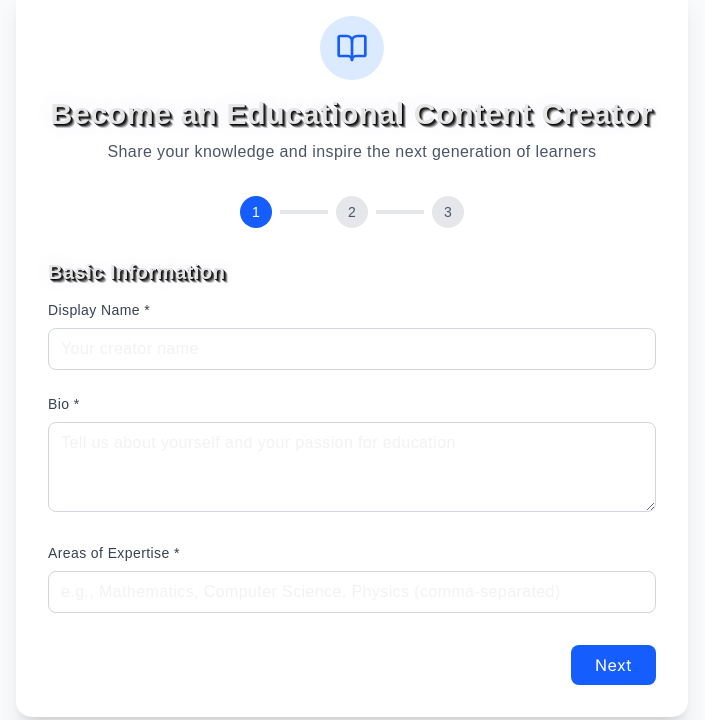
Test: CreatorApply Component › Form Navigation › navigates back to previous step when Previous is clicked
The width and height of the screenshot is (705, 720).
Go to step 2
Type "Test Creator" into the field with placeholder "Your creator name" at coordinates (352, 349), box [48,328,656,370]
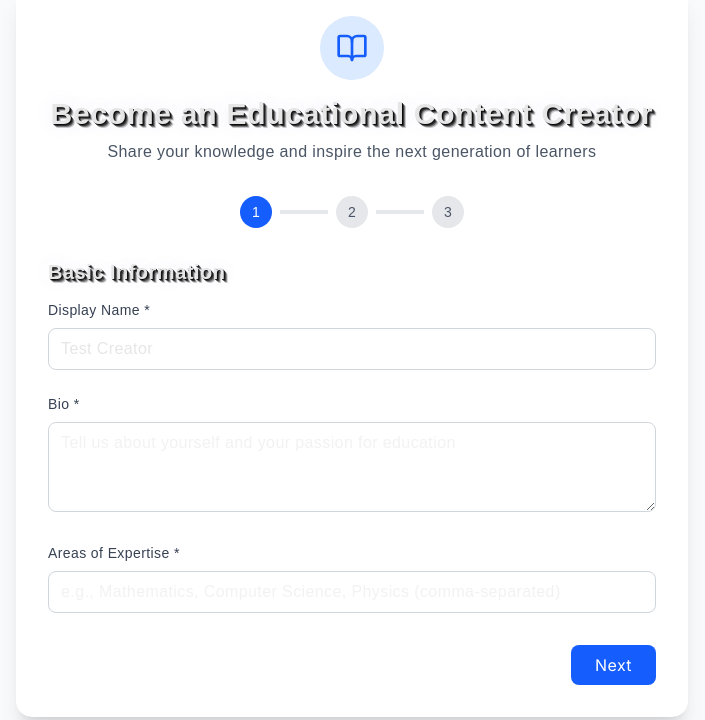
Type "Test bio content" into the text box with placeholder "Tell us about yourself and your passion for education" at coordinates (352, 467), box [48,422,656,512]
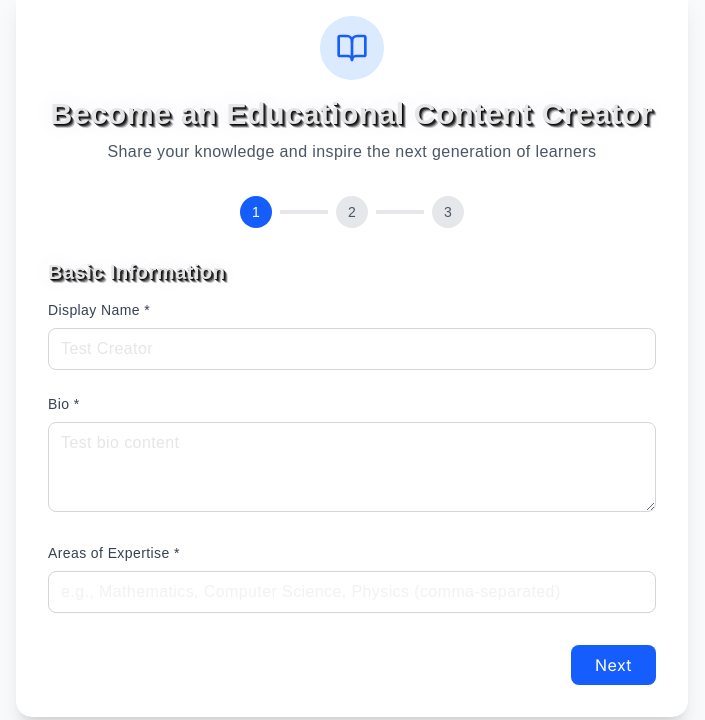
Replace the text in the field with placeholder "e.g., Mathematics, Computer Science, Physics (comma-separated)" with "Mathematics, Physics" at coordinates (352, 592), box [48,571,656,613]
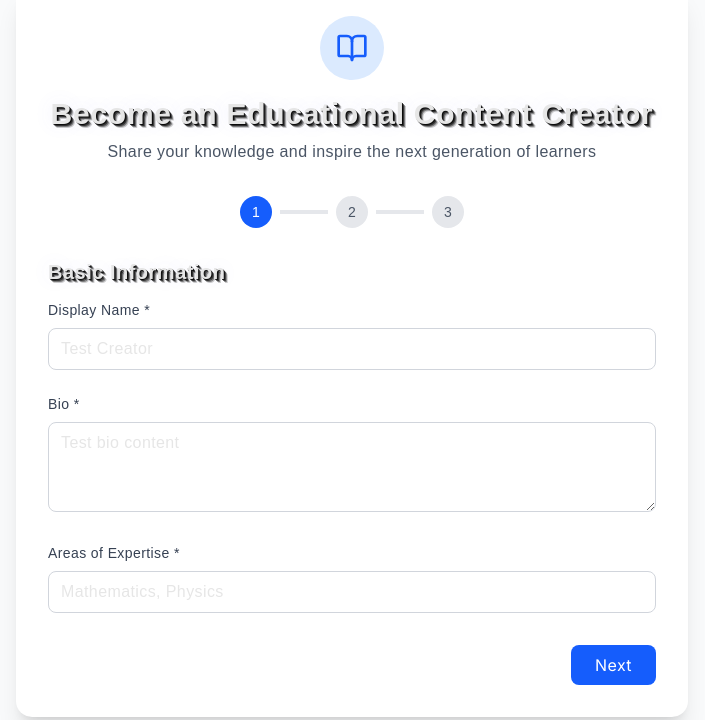
Click the button "Next" at coordinates (614, 665), box [571,645,656,685]
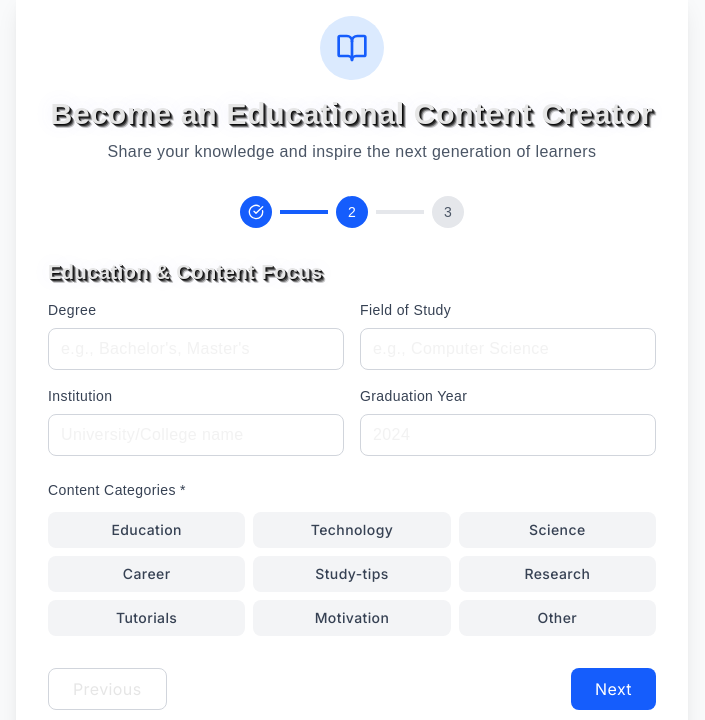
Check: the heading "Education & Content Focus" is shown, box [48,261,323,283]
Go back to step 1
Click the button "Previous" at coordinates (107, 689), box [48,668,167,710]
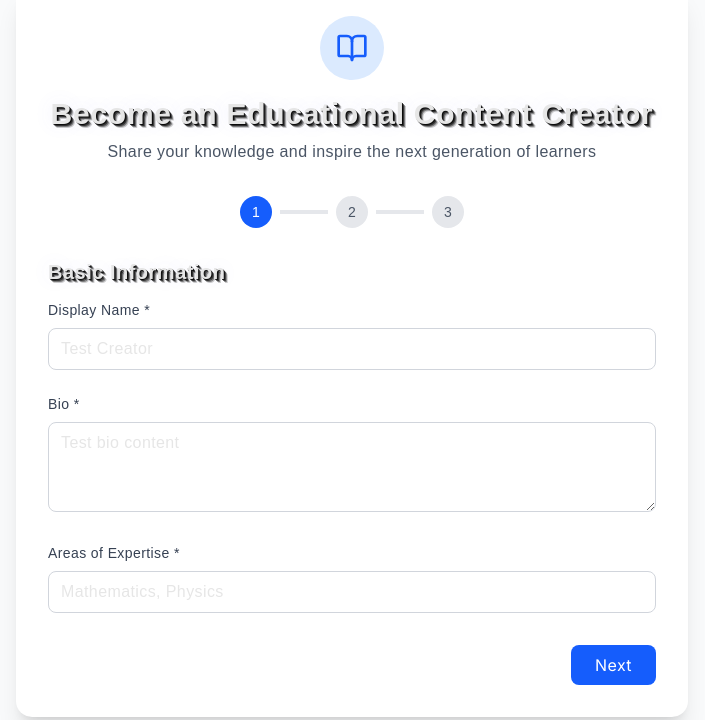
Check: the heading "Basic Information" is shown, box [48,261,225,283]
